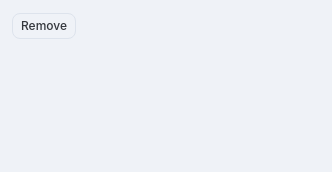
Test: ConfirmAction › confirming runs the action once and closes the question when it is done
This screenshot has width=332, height=172.
Click the button "Remove": coordinates (44, 26) [12,13,76,39]
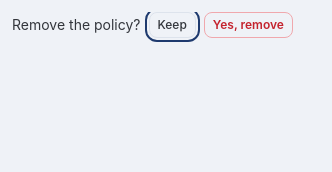
Click the button "Yes, remove": coordinates (248, 25) [204,12,293,38]
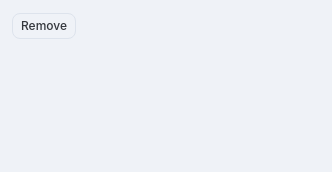
Result: the text "Remove the policy?" is gone
